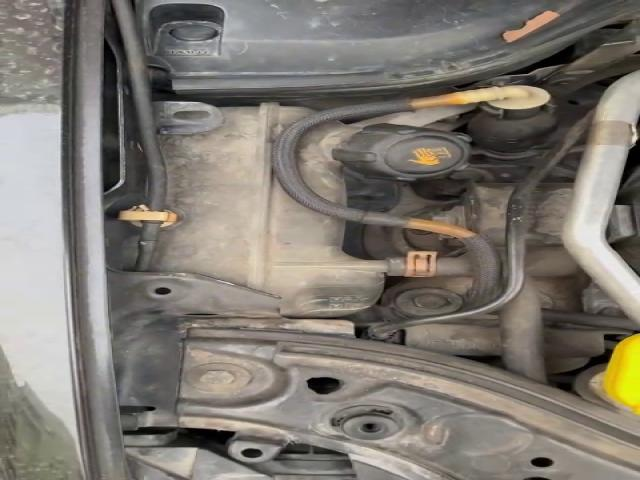antifreeze_tank: (157, 104, 389, 316), (298, 122, 470, 203)
